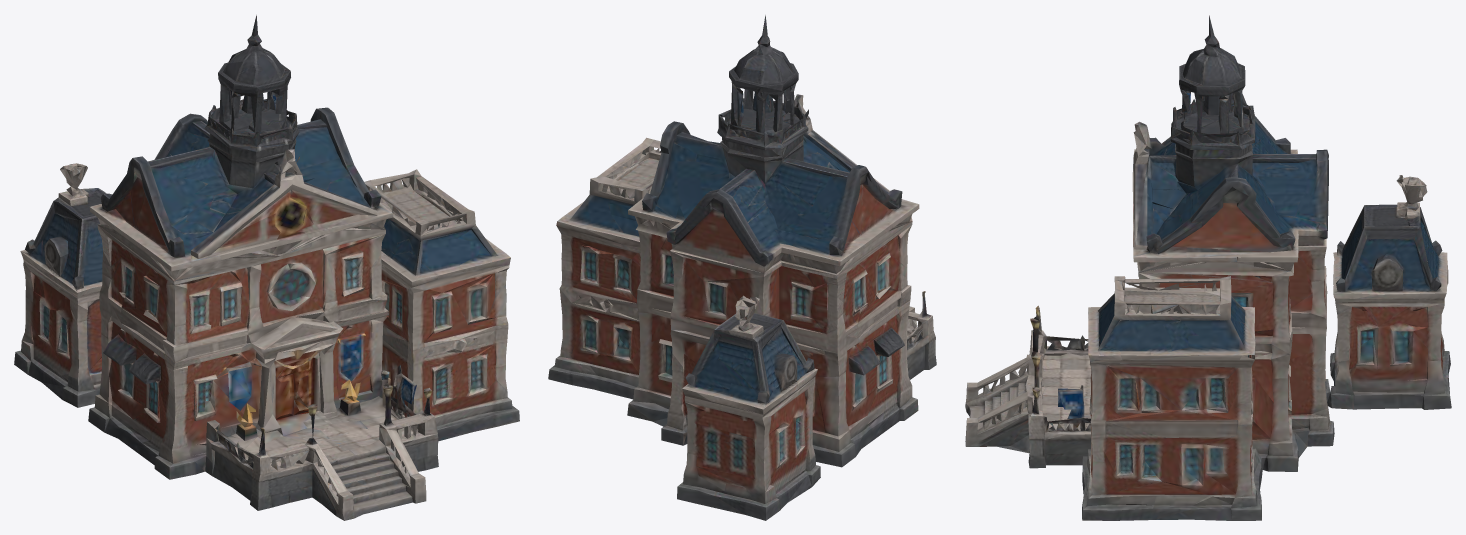
Rendered from towncenter.glb.
3 views of the same model, side by side, from view 1: azimuth 30°, elevation 25°; view 2: azimuth 150°, elevation 25°; view 3: azimuth 270°, elevation 25° (orthographic). The views are drawn at different scales.
Bounding box in the file's own units: 1.48 × 1.77 × 1.9.
Materials: 1 (1 with a texture image).
